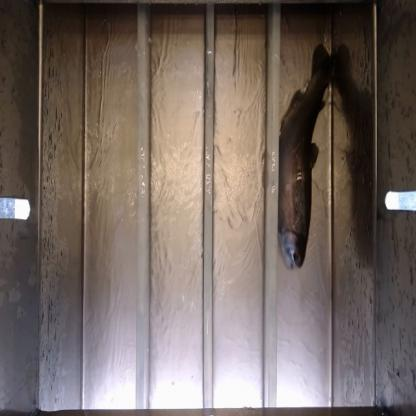pezw: (280, 42, 333, 273)
